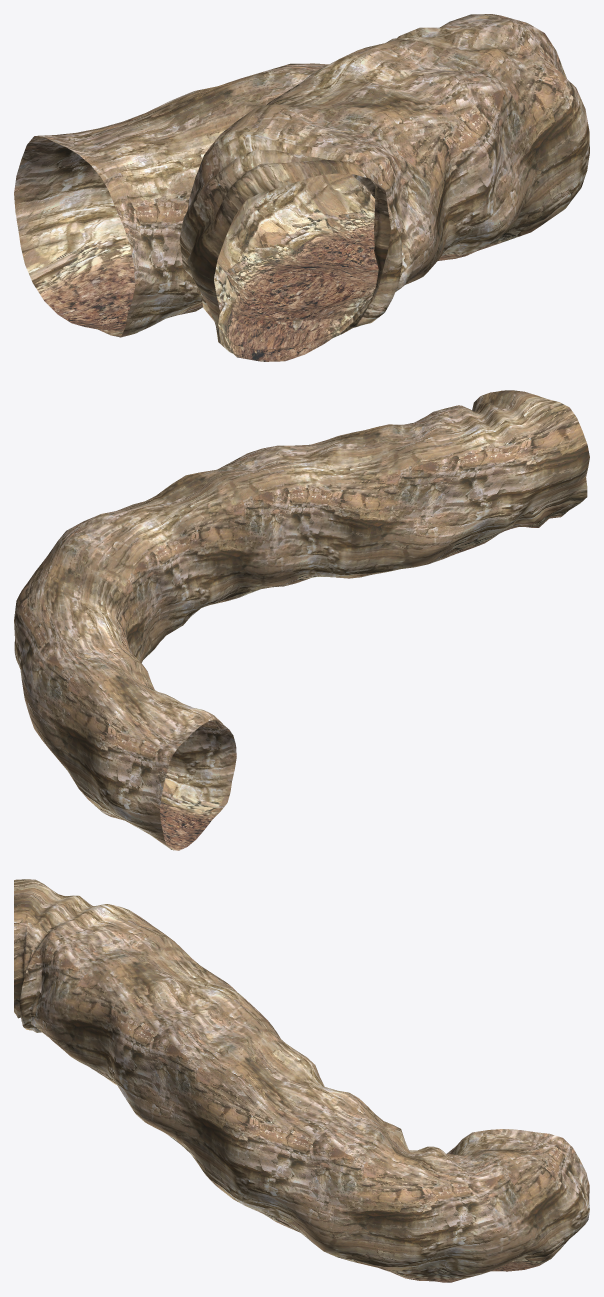
The model's file is thm_tato_cave_s01_r2_mesh_r2.fbx.
The picture shows the model from 3 angles, top to bottom: view 1: azimuth 30°, elevation 25°; view 2: azimuth 150°, elevation 25°; view 3: azimuth 270°, elevation 25°; orthographic projection. The views are drawn at different scales.
Parts seen in each view (by area): view 1: mesh_node; view 2: mesh_node; view 3: mesh_node.
Part boxes in pixels (x1=…): mesh_node: x1=14, y1=14, x2=589, y2=361; mesh_node: x1=14, y1=390, x2=589, y2=850; mesh_node: x1=14, y1=879, x2=589, y2=1282.
Size of the model in its own units: 33.78 by 24.61 by 41.77.
